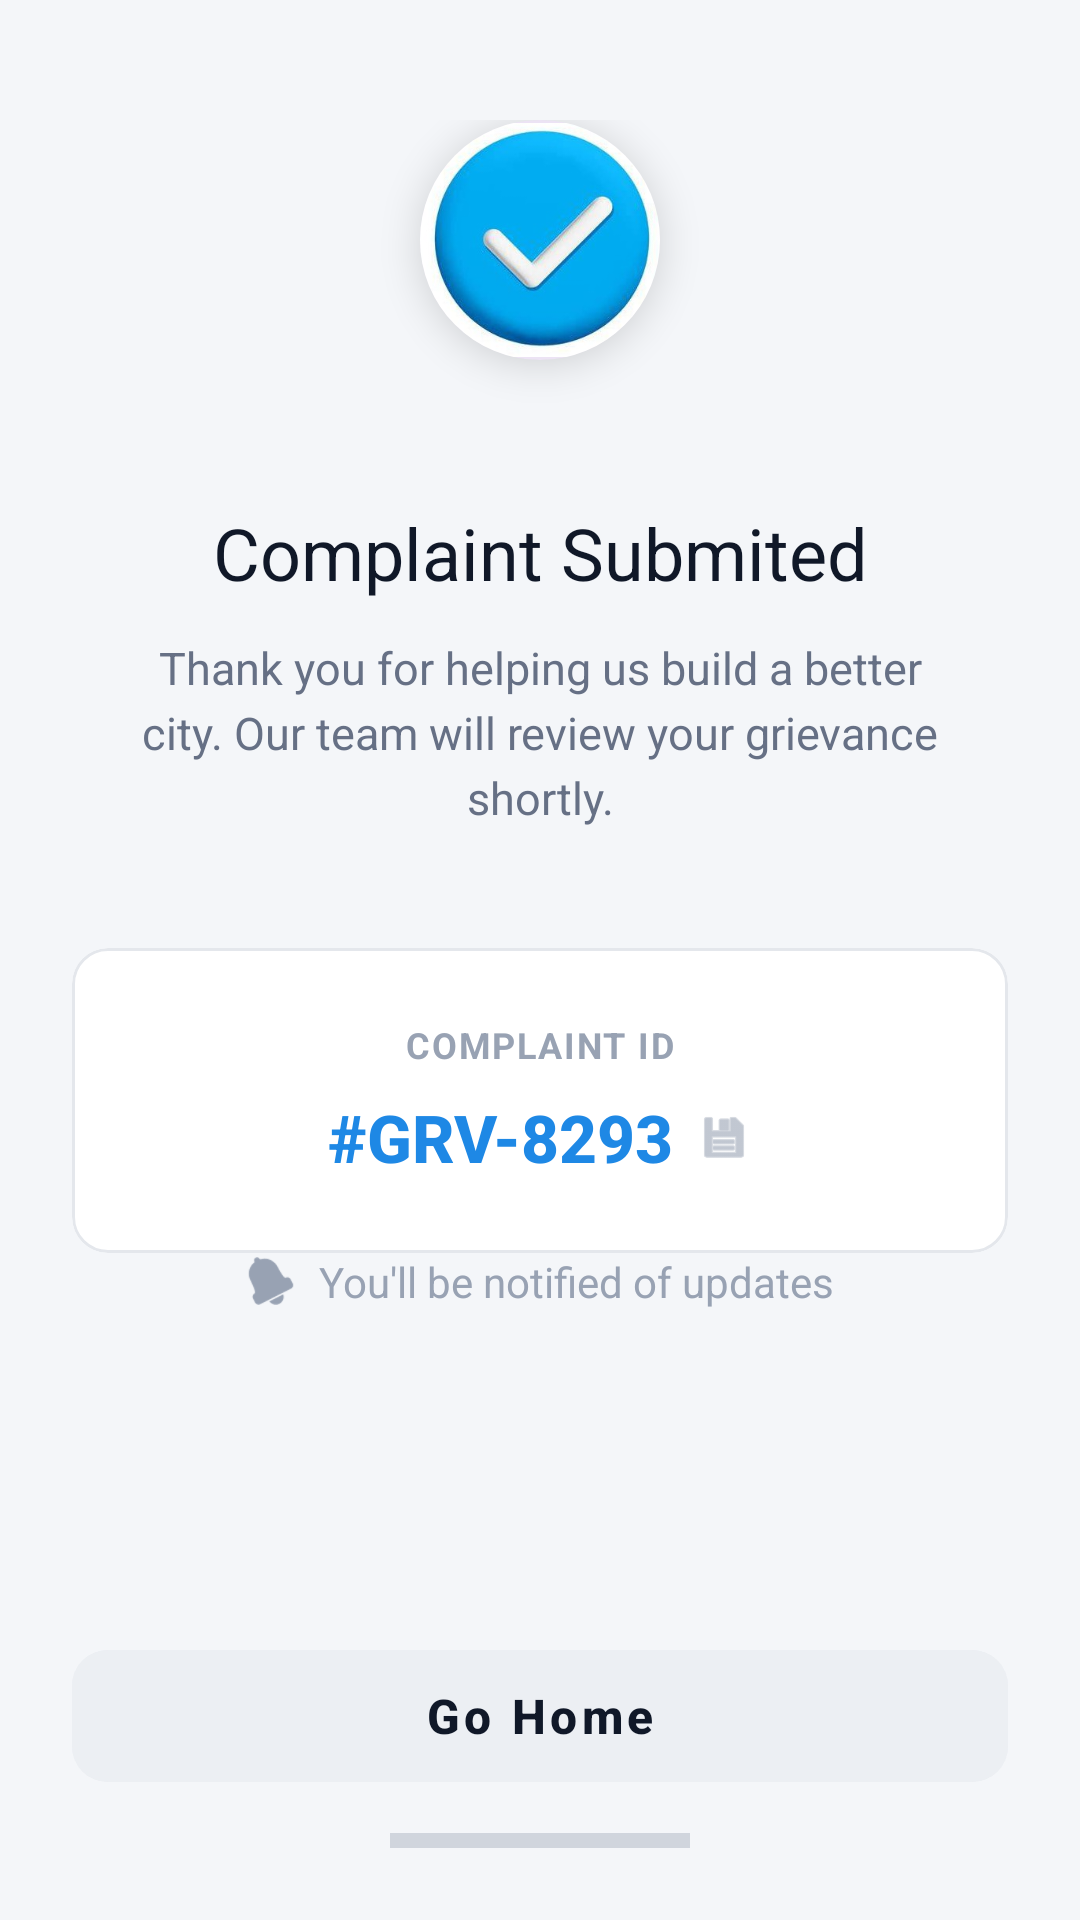

Named icons in this screenshot (1080 x 1920) and their bounding boxes, [x1,y1,x2,y2]:
popup reminder: [249,1257,293,1305]
save: [704,1117,744,1158]
tickk: [434,130,650,346]
